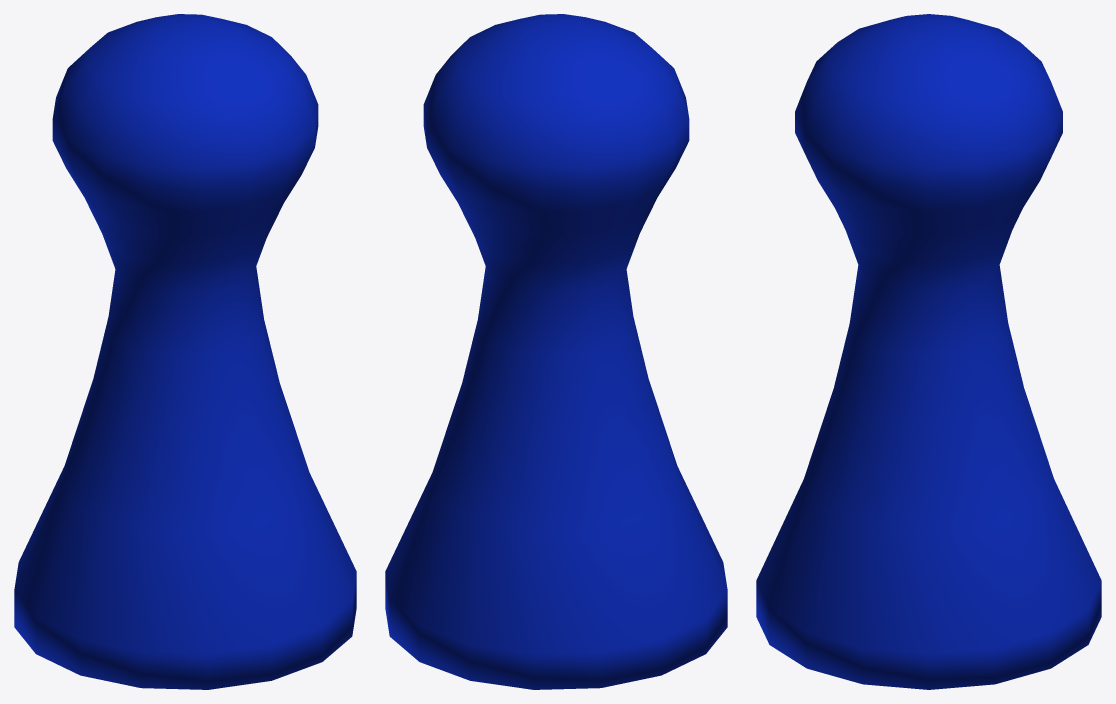
File: blue.glb
The picture shows the model from 3 angles, left to right: view 1: azimuth 30°, elevation 25°; view 2: azimuth 150°, elevation 25°; view 3: azimuth 270°, elevation 25°; orthographic projection.
Parts seen in each view (by area): view 1: BlueGameFigure2; view 2: BlueGameFigure2; view 3: BlueGameFigure2.
Boxes of the visible parts, box(x1,y1,x2,y2) form: BlueGameFigure2: box(14, 14, 356, 689); BlueGameFigure2: box(385, 14, 727, 689); BlueGameFigure2: box(756, 14, 1101, 689).
Size of the model in its own units: 2.27 by 4.25 by 2.27.
